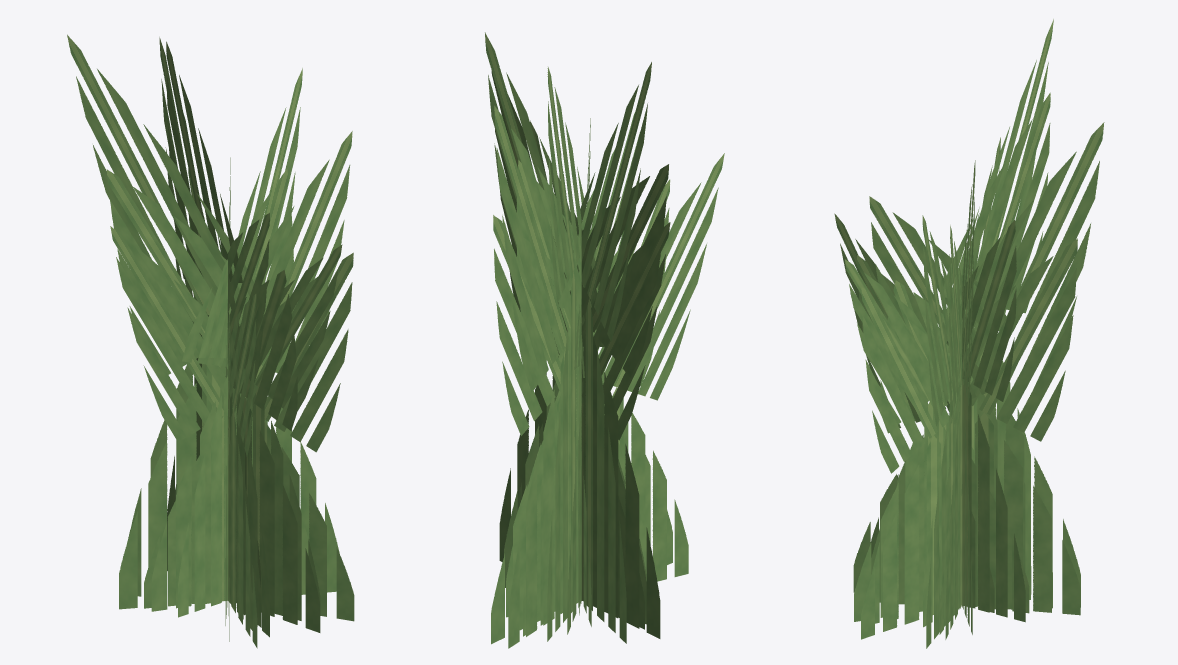
3 views of the same model, side by side, from view 1: azimuth 30°, elevation 25°; view 2: azimuth 150°, elevation 25°; view 3: azimuth 270°, elevation 25° (orthographic). The views are drawn at different scales.
Visible parts, largest first — view 1: 풀_01; view 2: 풀_01; view 3: 풀_01.
Part boxes in pixels (x1=…): 풀_01: x1=67, y1=34, x2=354, y2=648; 풀_01: x1=485, y1=32, x2=724, y2=648; 풀_01: x1=834, y1=19, x2=1104, y2=648.
Bounding box in the file's own units: 244 × 456 × 273.
Materials: 1 (1 with a texture image).
